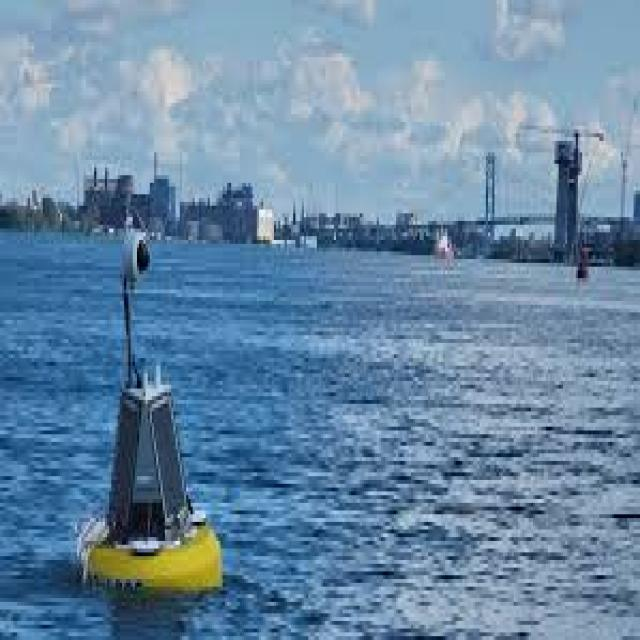buoy: (79, 176, 229, 614)
